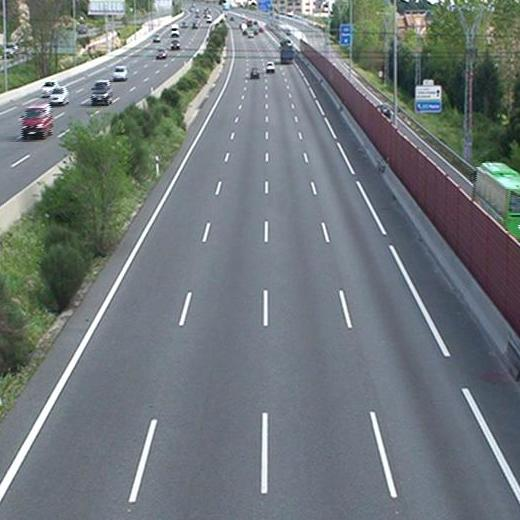car: (264, 61, 277, 74), (250, 66, 260, 79)
small-truck: (280, 40, 295, 64)
